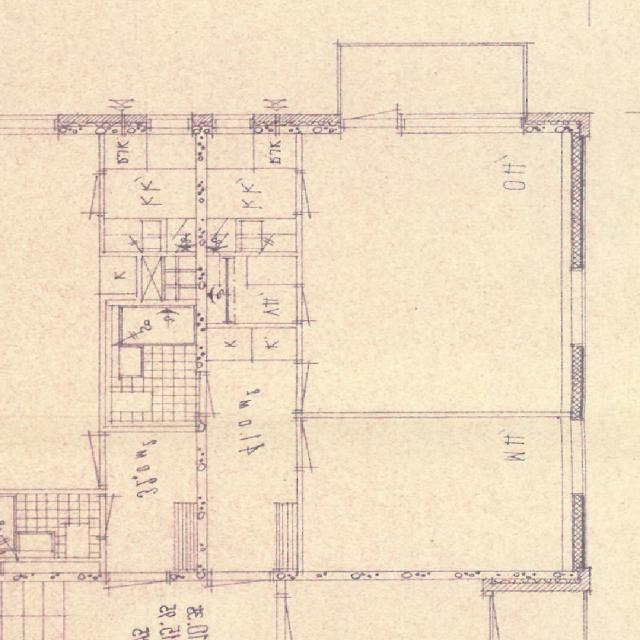door: (344, 70, 398, 132), (212, 569, 270, 626), (296, 362, 360, 410), (296, 420, 360, 467), (195, 373, 255, 412), (296, 172, 352, 212), (296, 286, 345, 320)
